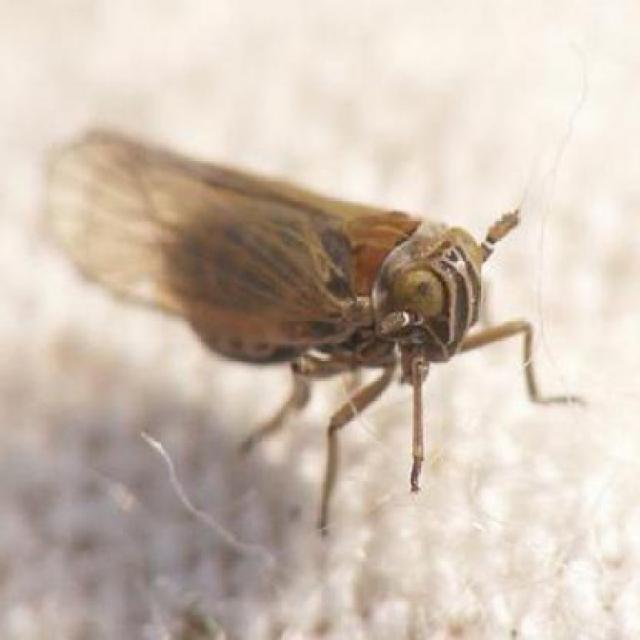brown-planthopper: (43, 128, 525, 490)
